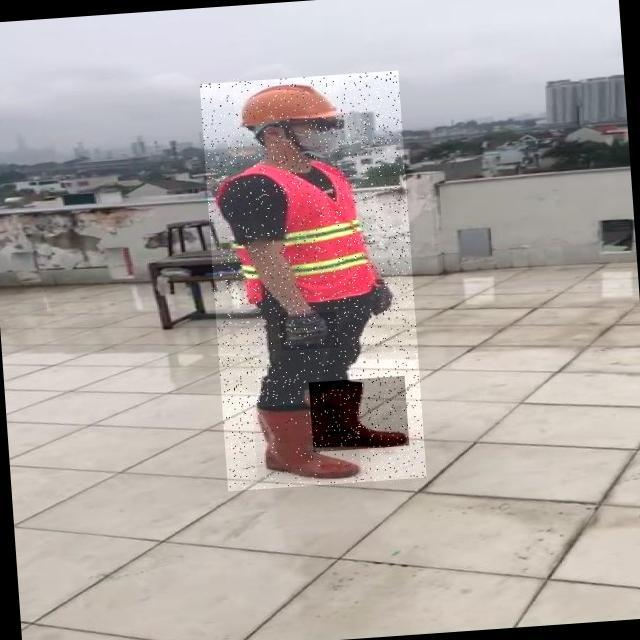Gloves: (279, 311, 338, 351)
Helmet: (233, 79, 342, 130)
Human: (200, 71, 427, 492)
Safety Boot: (252, 400, 361, 484), (308, 375, 409, 452)
Safety Vest: (213, 154, 379, 308)
